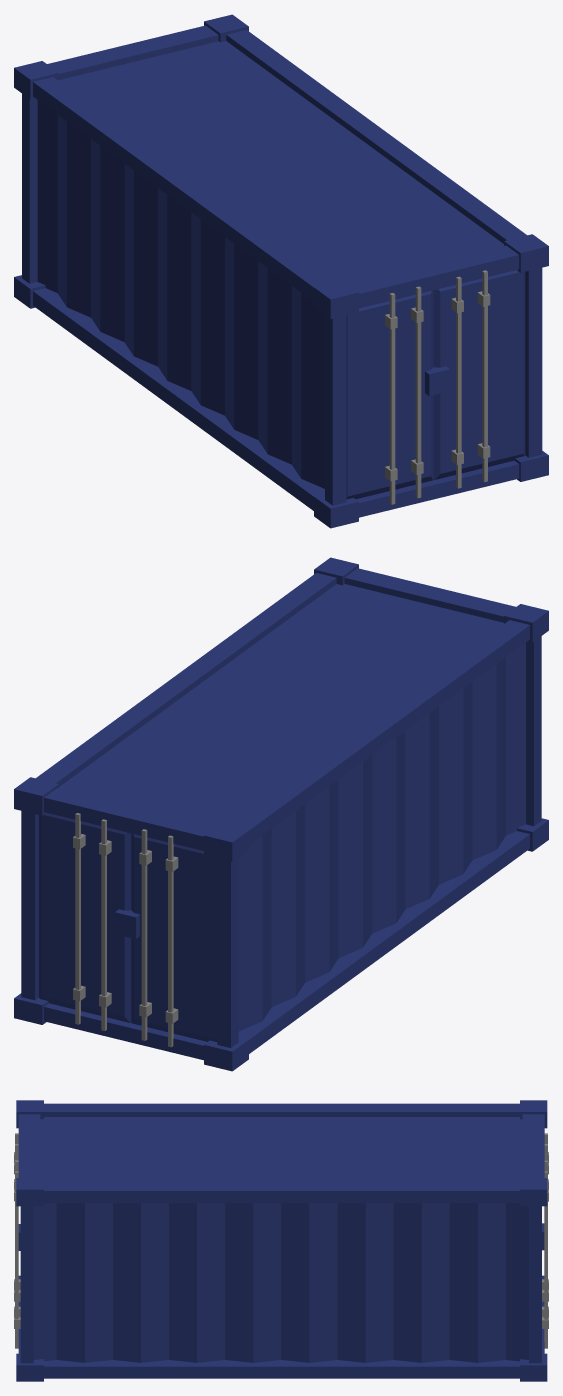
The model's file is CargoContainer_Large.fbx.
3 views of the same model, one above another, from view 1: azimuth 30°, elevation 25°; view 2: azimuth 150°, elevation 25°; view 3: azimuth 270°, elevation 25° (orthographic). The views are drawn at different scales.
Parts seen in each view (by area): view 1: CargoContainer_Large; view 2: CargoContainer_Large; view 3: CargoContainer_Large.
Part boxes in pixels (bbox=[...]): CargoContainer_Large: bbox=[14, 14, 548, 528]; CargoContainer_Large: bbox=[14, 557, 548, 1071]; CargoContainer_Large: bbox=[14, 1100, 548, 1381].
Bounding box in the file's own units: 302 × 302 × 763.
